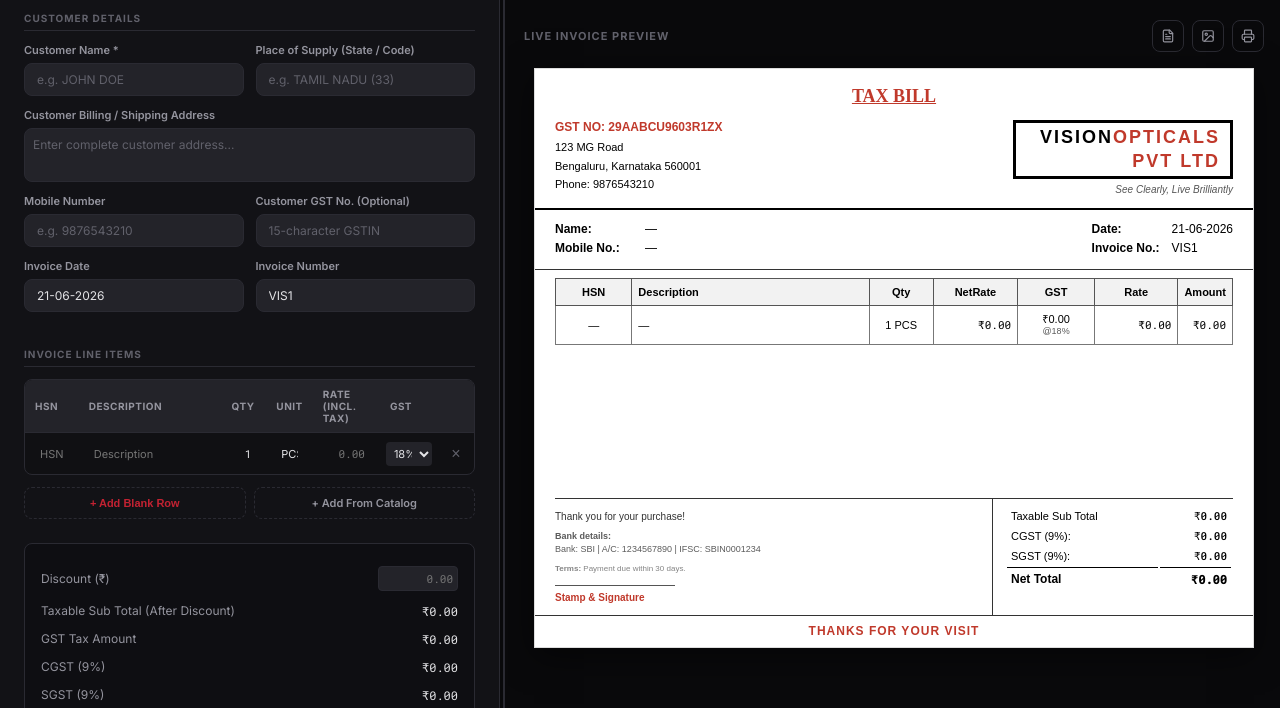
it: InvoiceEditor — Enhanced Mock Scenarios › C10: Pre-tax discount input live updates calculations in totals panel
Type "118" into the number field with placeholder "0.00" below "Unit" at (346, 454), box [319,439,374,468]
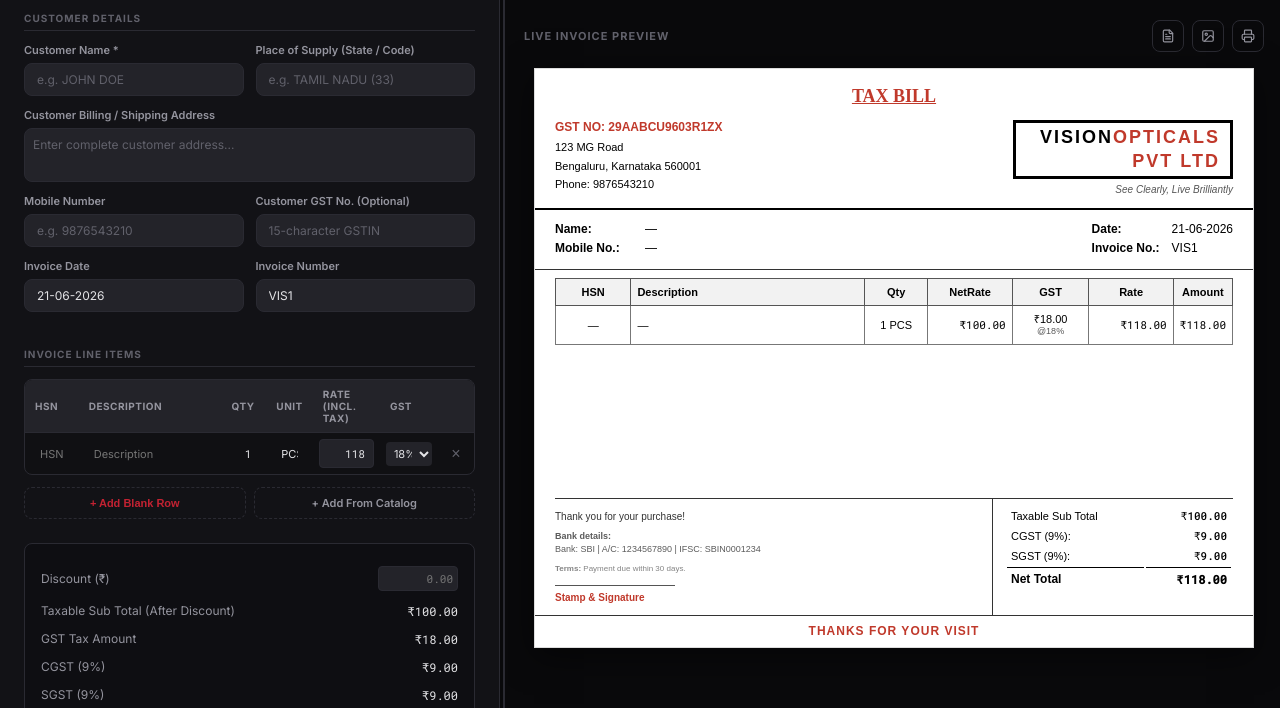
Type "20" into the number field with placeholder "0.00" at (418, 578), box [378,566,458,591]
(page scrolled)
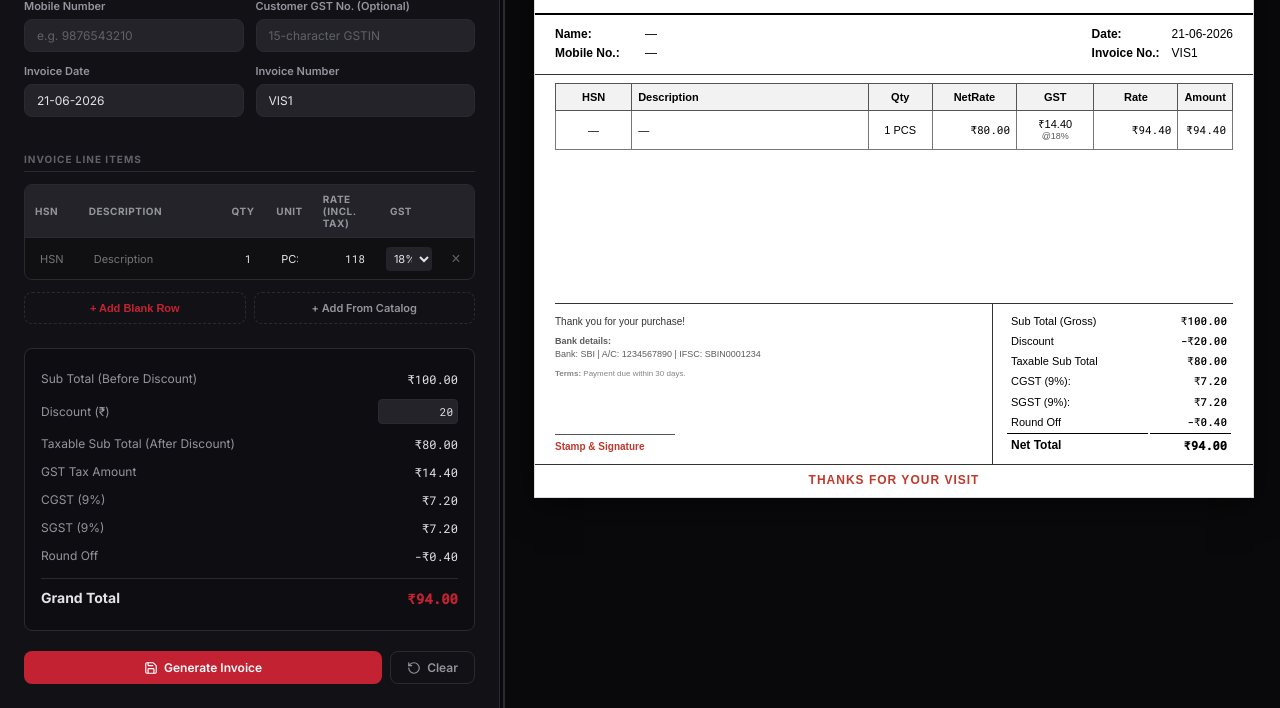
Now the text "Taxable Sub Total (After Discount)" shows "₹80.00", box [41,436,458,452]
Now the text "GST Tax Amount" shows "₹14.40", box [41,464,458,480]
Now the text "Grand Total" shows "₹94.00", box [41,578,458,614]
